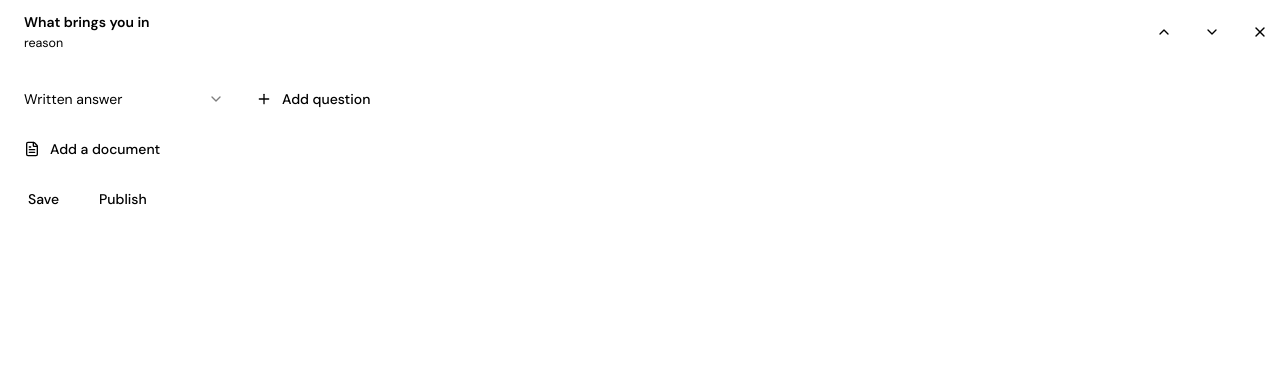
Test: IntakeItemEditor › adding a built-in document › adds a template's items and saves the form in two clicks
This screenshot has width=1282, height=384.
Click the button "Add a document": (92, 149) [12,133,172,165]
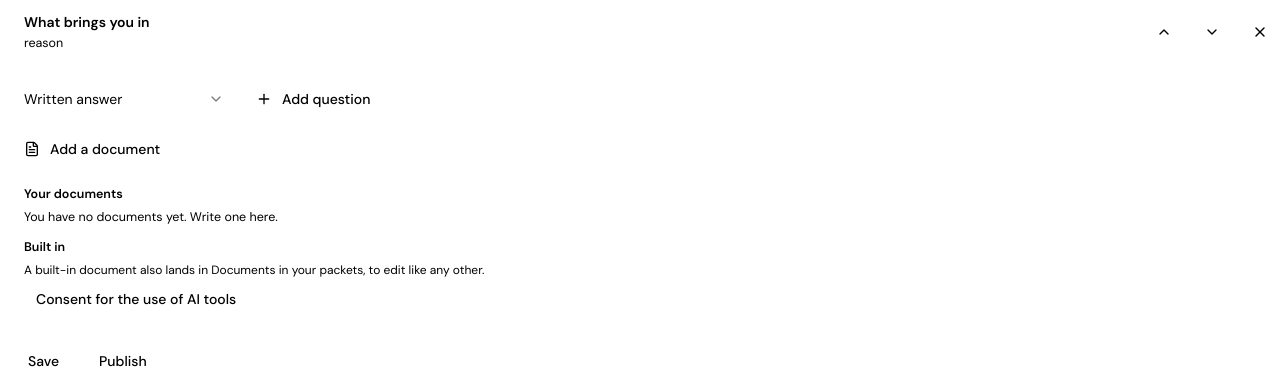
Click the button "Consent for the use of AI tools": (136, 299) [24,283,248,315]
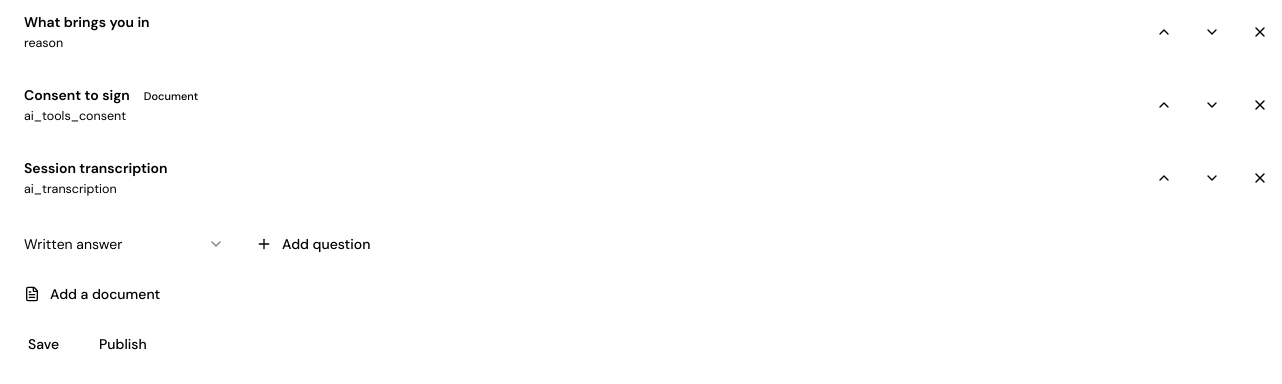
Check: the text "Session transcription" is shown, box [24,158,168,176]
